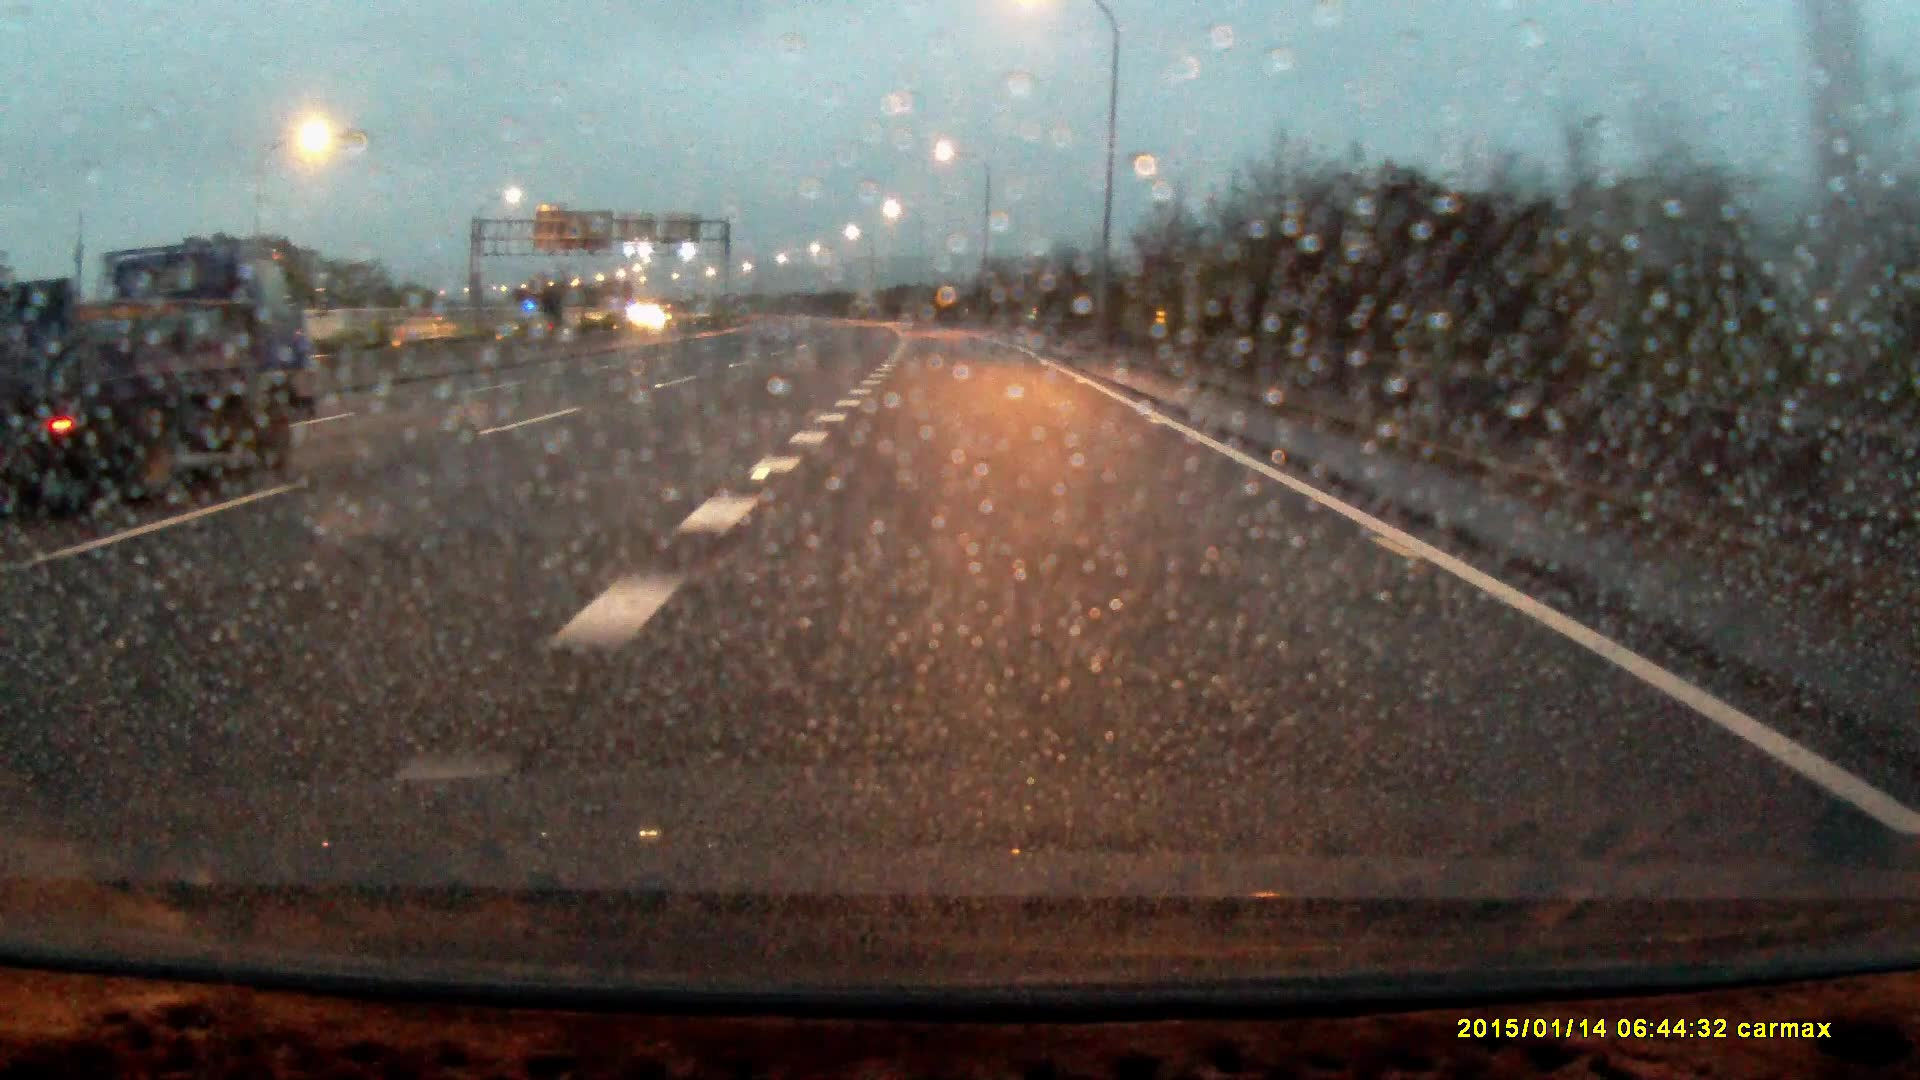vehicle: (1, 224, 363, 516)
